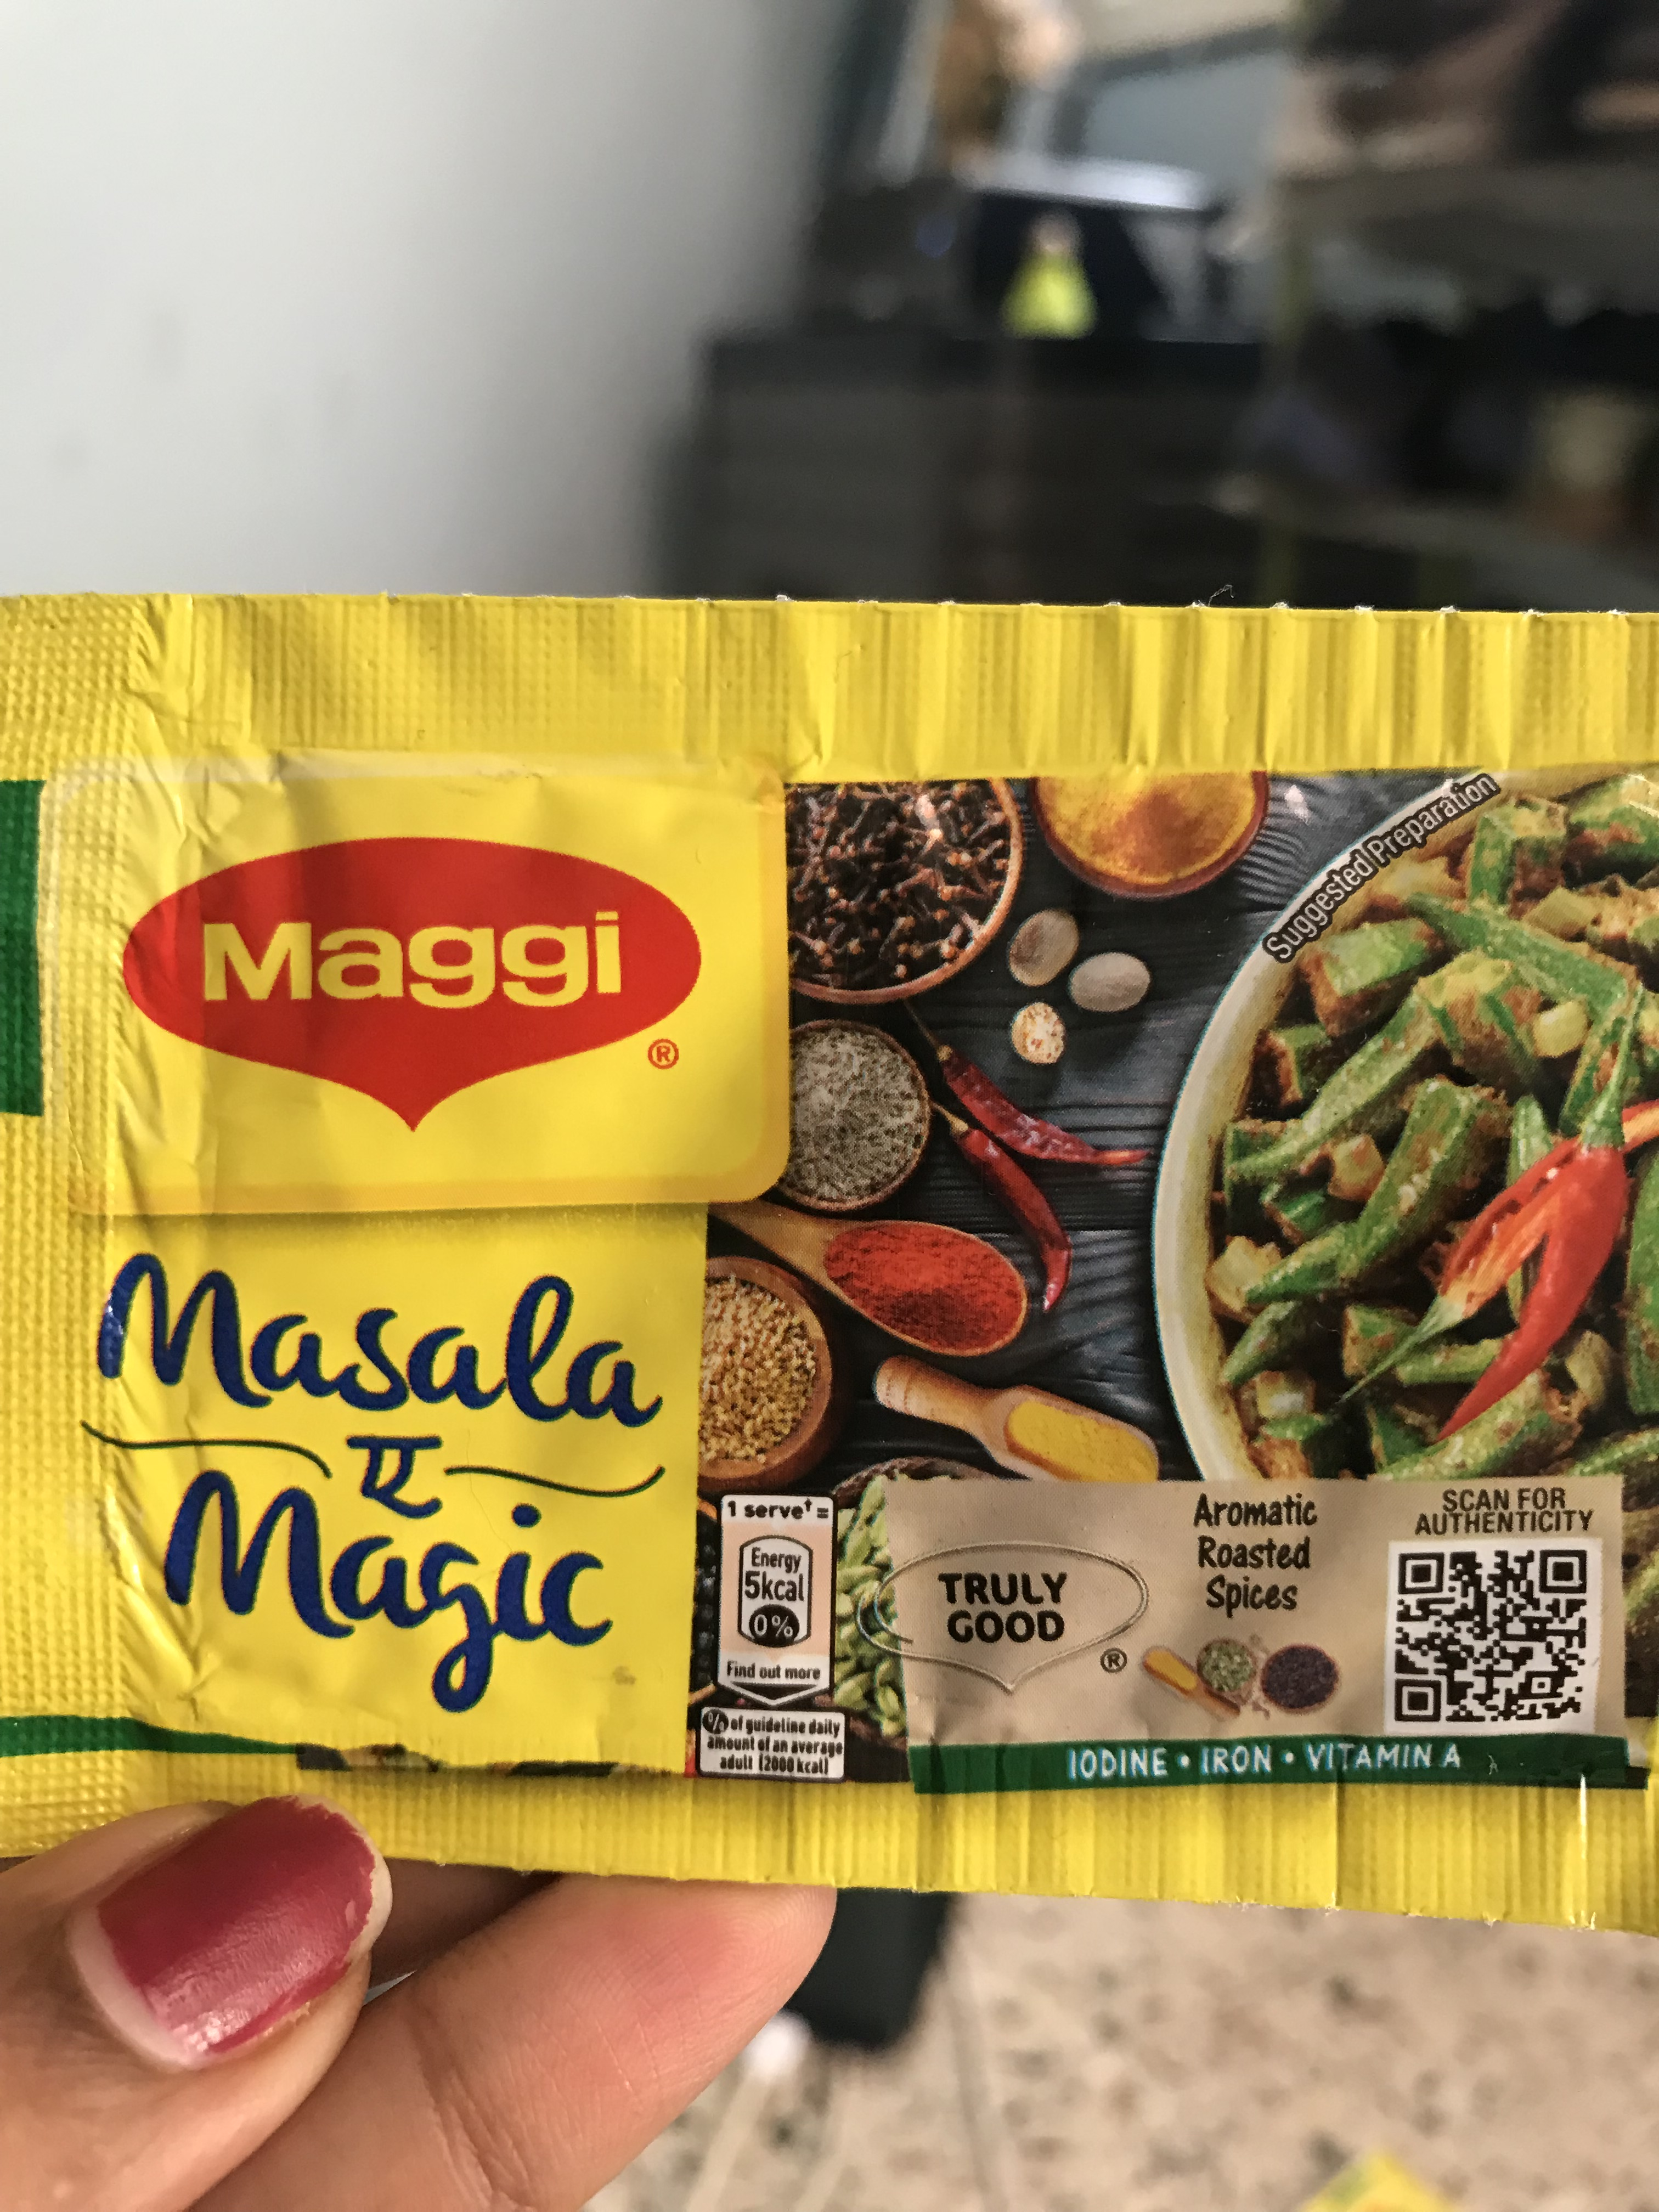qr_code: (1391, 1531, 1598, 1764)
